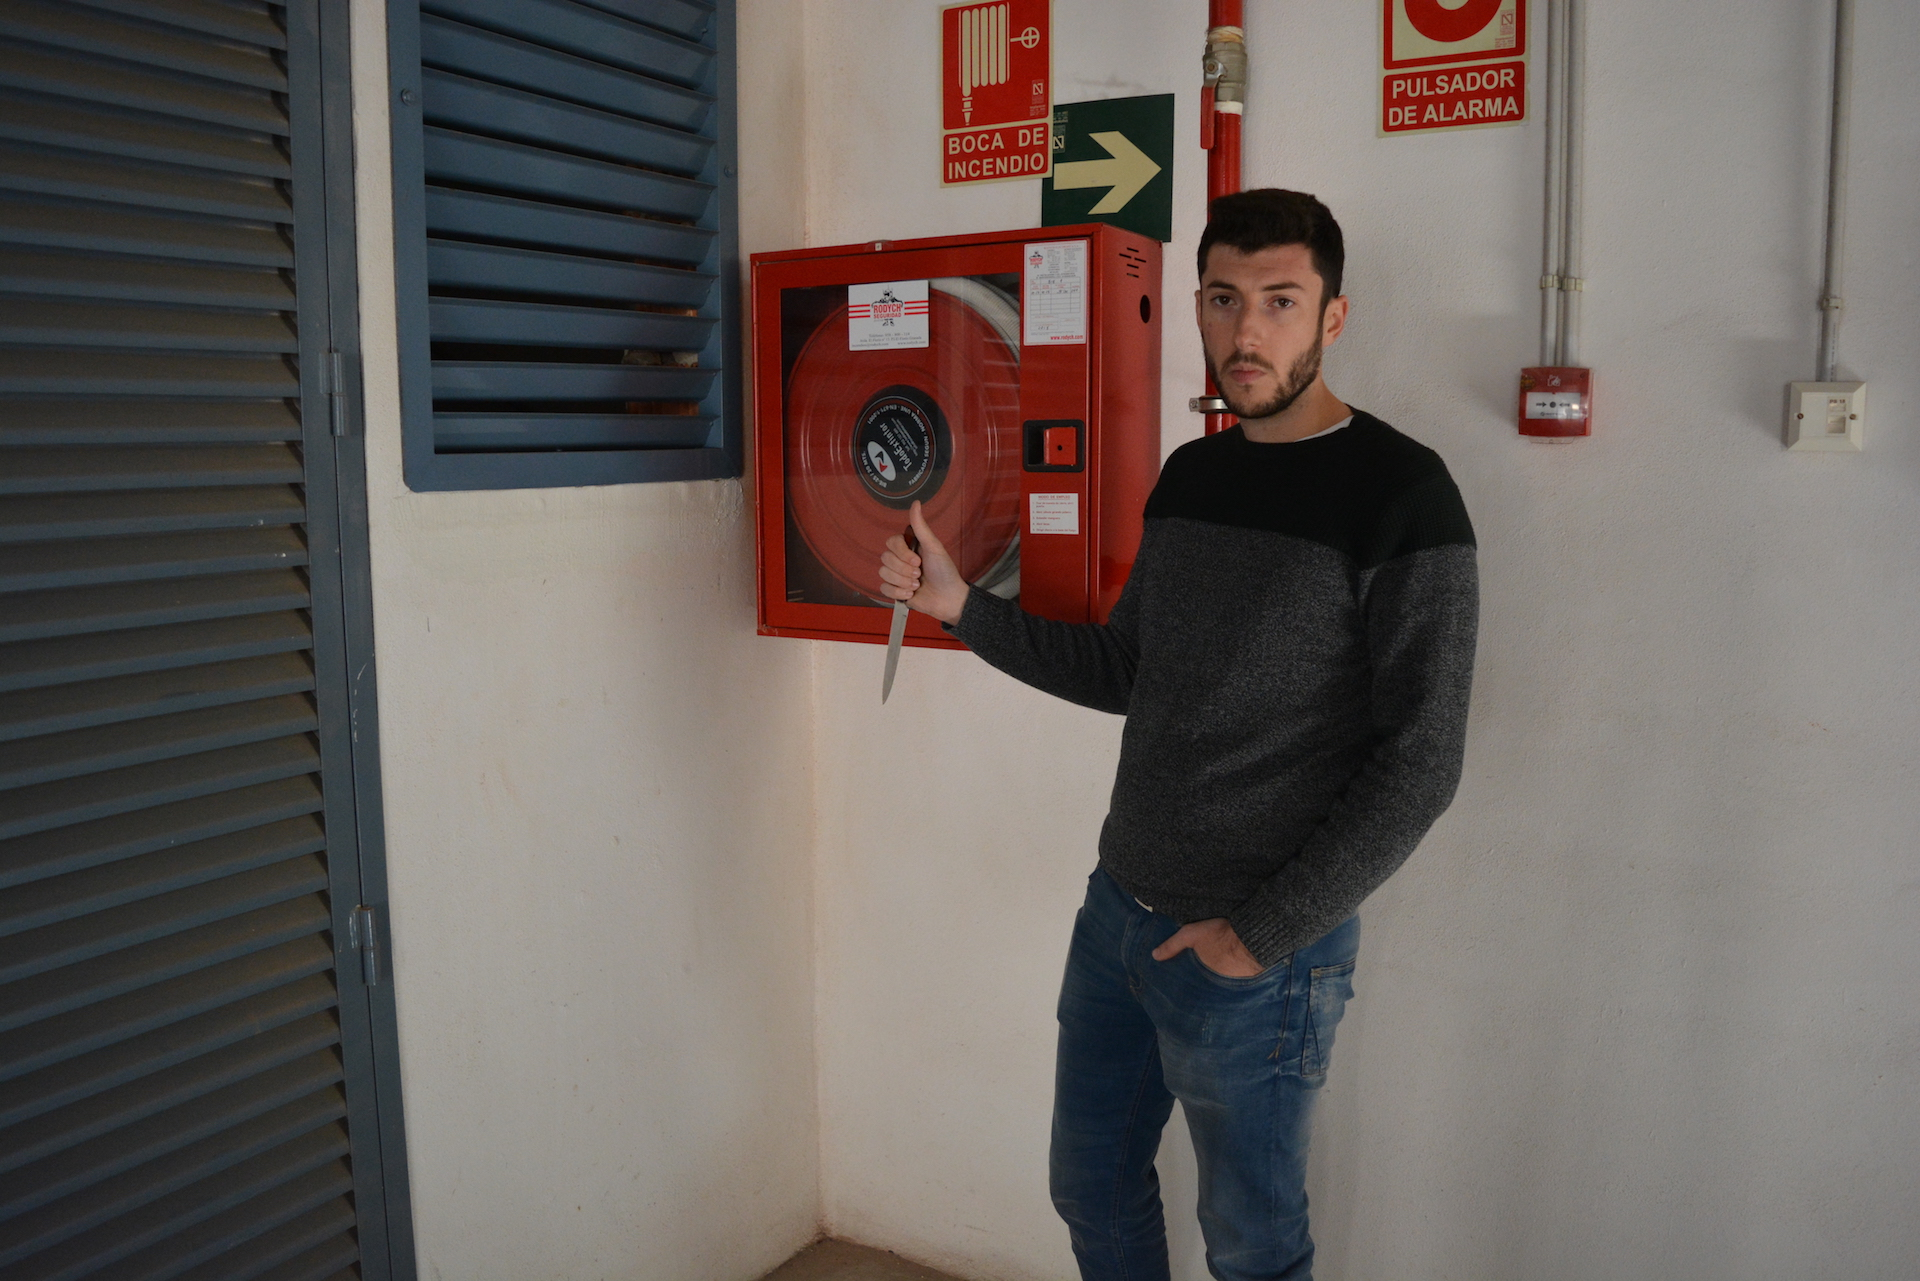knife: (874, 516, 929, 713)
